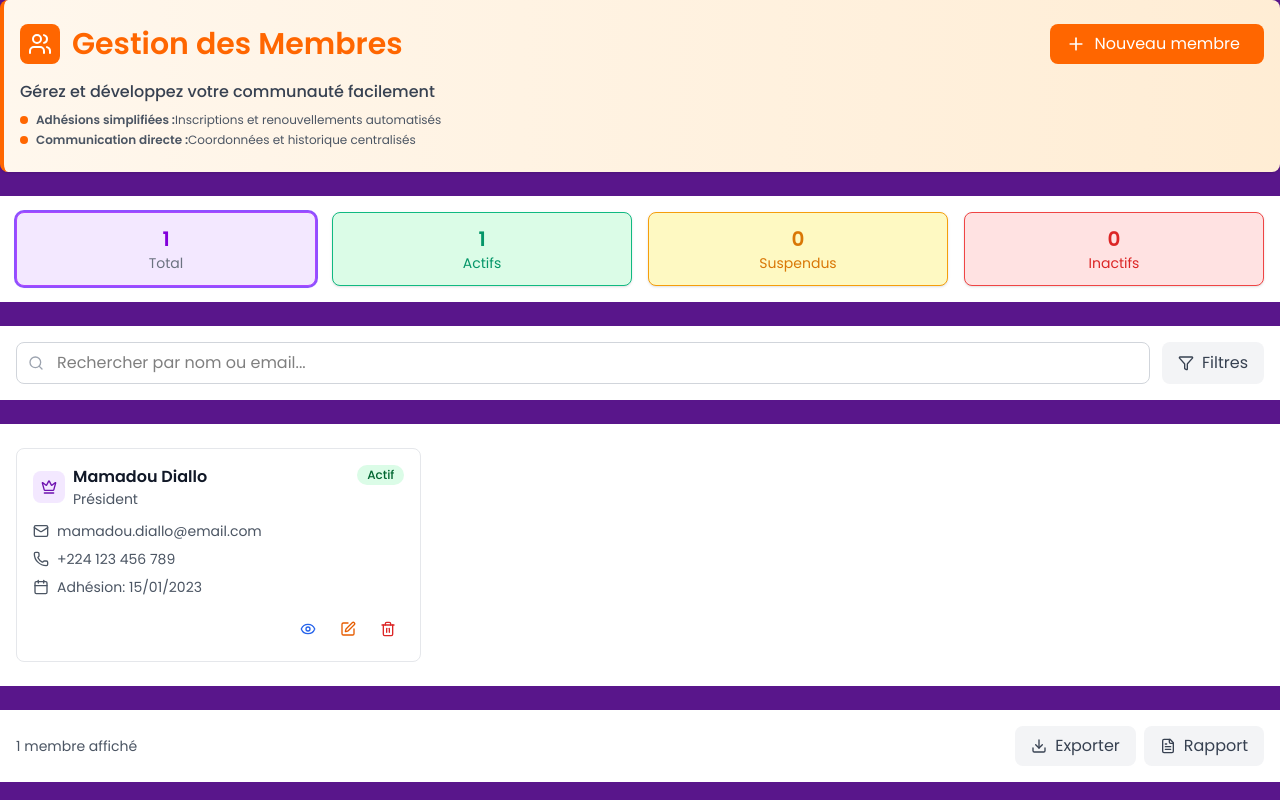
Test: MembersPage › ouvre le formulaire d’ajout
What coordinates should you click on to do the following:
click the text "Nouveau membre"
I would click on:
 (1167, 44)
Its box is [1094, 32, 1240, 56].
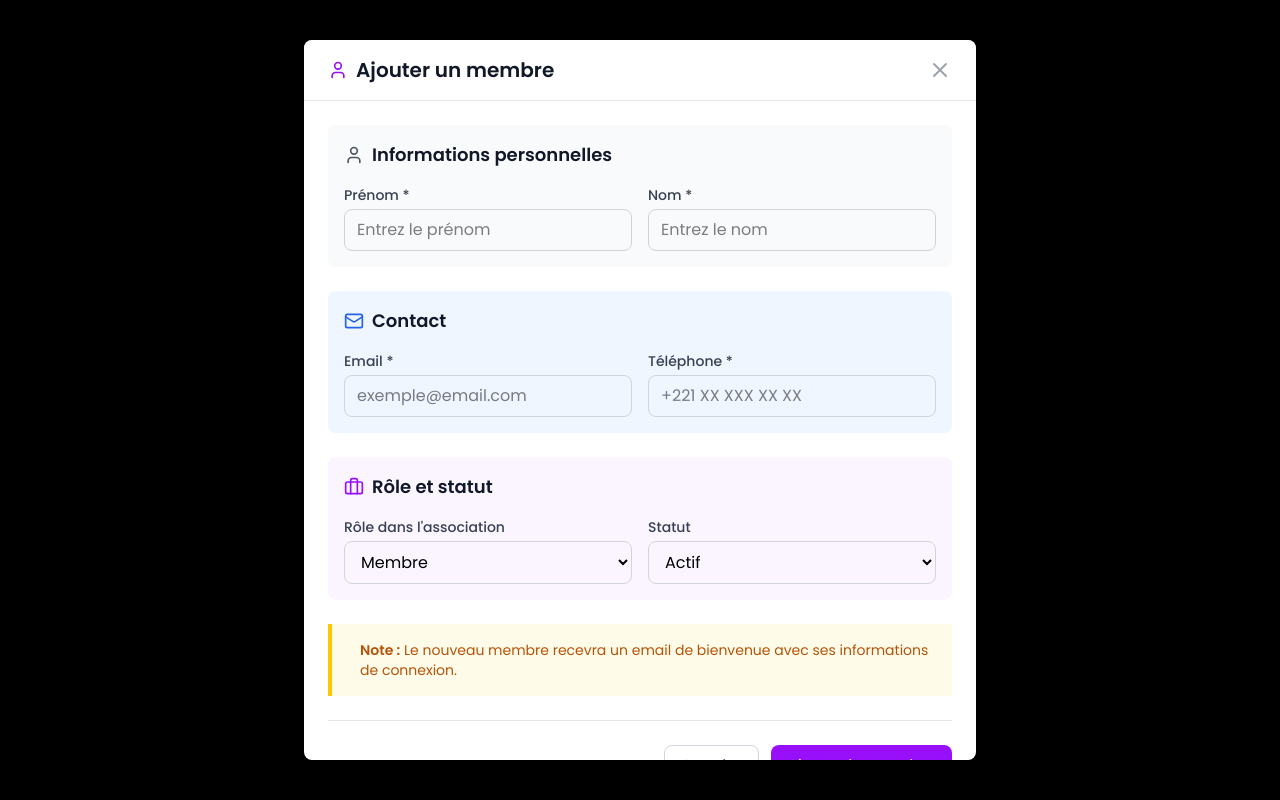
Now the heading "Ajouter un membre" is shown, box [328, 56, 554, 84]
